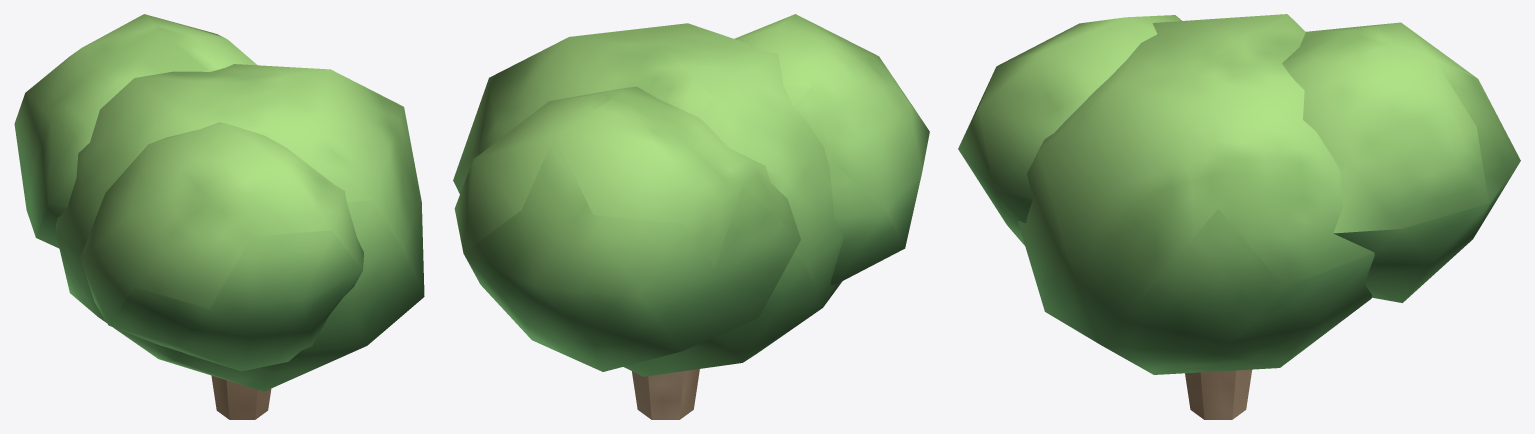
Rendered from bush_small.gltf.
3 views of the same model, side by side, from view 1: azimuth 30°, elevation 25°; view 2: azimuth 150°, elevation 25°; view 3: azimuth 270°, elevation 25° (orthographic). The views are drawn at different scales.
Visible parts, largest first — view 1: bush_small; view 2: bush_small; view 3: bush_small.
Boxes of the visible parts, x1,y1,x2,y2 form: bush_small: (14, 14, 424, 419); bush_small: (453, 14, 929, 419); bush_small: (958, 14, 1520, 419).
Bounding box in the file's own units: 0.4811 × 0.4515 × 0.6257.
Materials: 1 (1 with a texture image).
